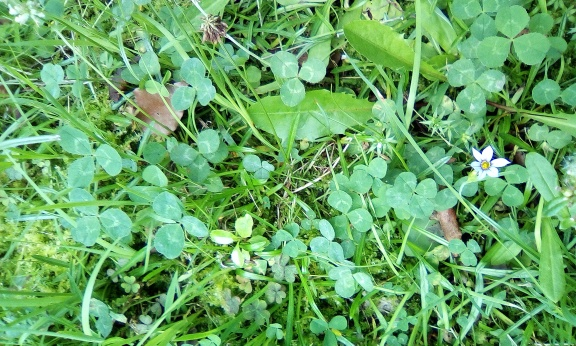4leaf: (169, 128, 229, 184), (386, 171, 437, 219), (275, 223, 308, 258)
